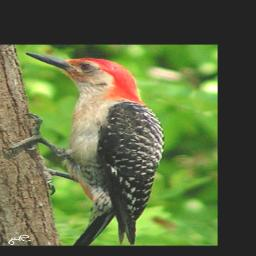Woodpecker: (1, 52, 166, 246)
